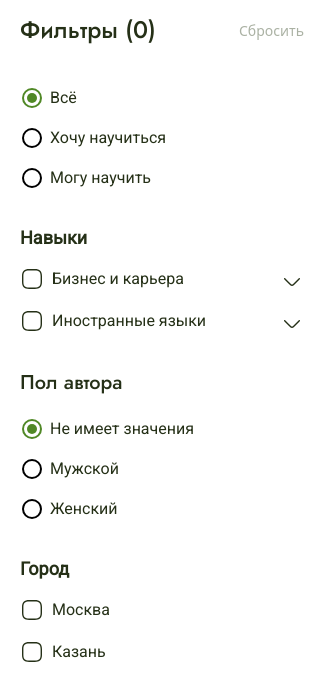
it: Sidebar › показывает счётчик активных условий и сбрасывает их
Expected: the heading "Фильтры (0)" is shown, [20,16,156,44]
Click the checkbox labelled "Казань": coordinates (63, 652) [20,640,106,664]
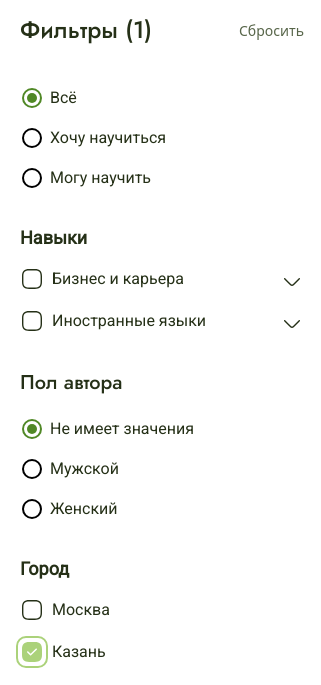
Now the heading "Фильтры (1)" is shown, box [20,16,152,44]
Click the button "Сбросить": coordinates (272, 30) [239,20,304,40]
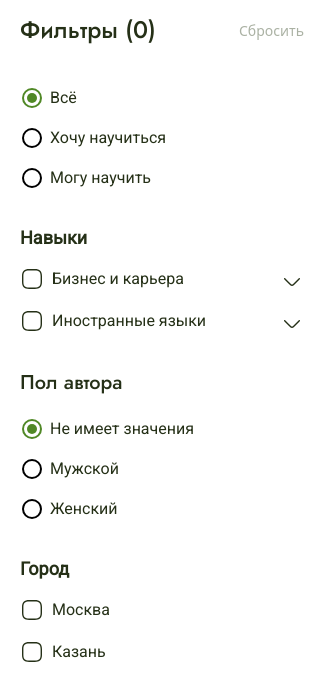
Now the heading "Фильтры (0)" is shown, box [20,16,156,44]
